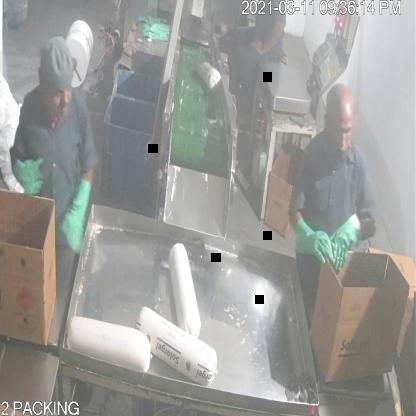glove: (292, 206, 336, 282), (324, 212, 368, 285)
no_glove: (251, 23, 296, 65)
